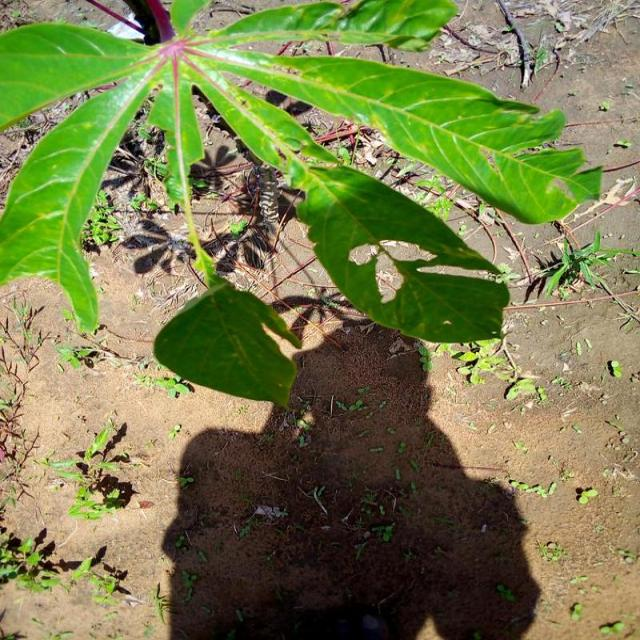cassava leaf: (0, 0, 602, 405), (186, 45, 602, 225), (294, 162, 511, 345), (152, 280, 300, 410)
